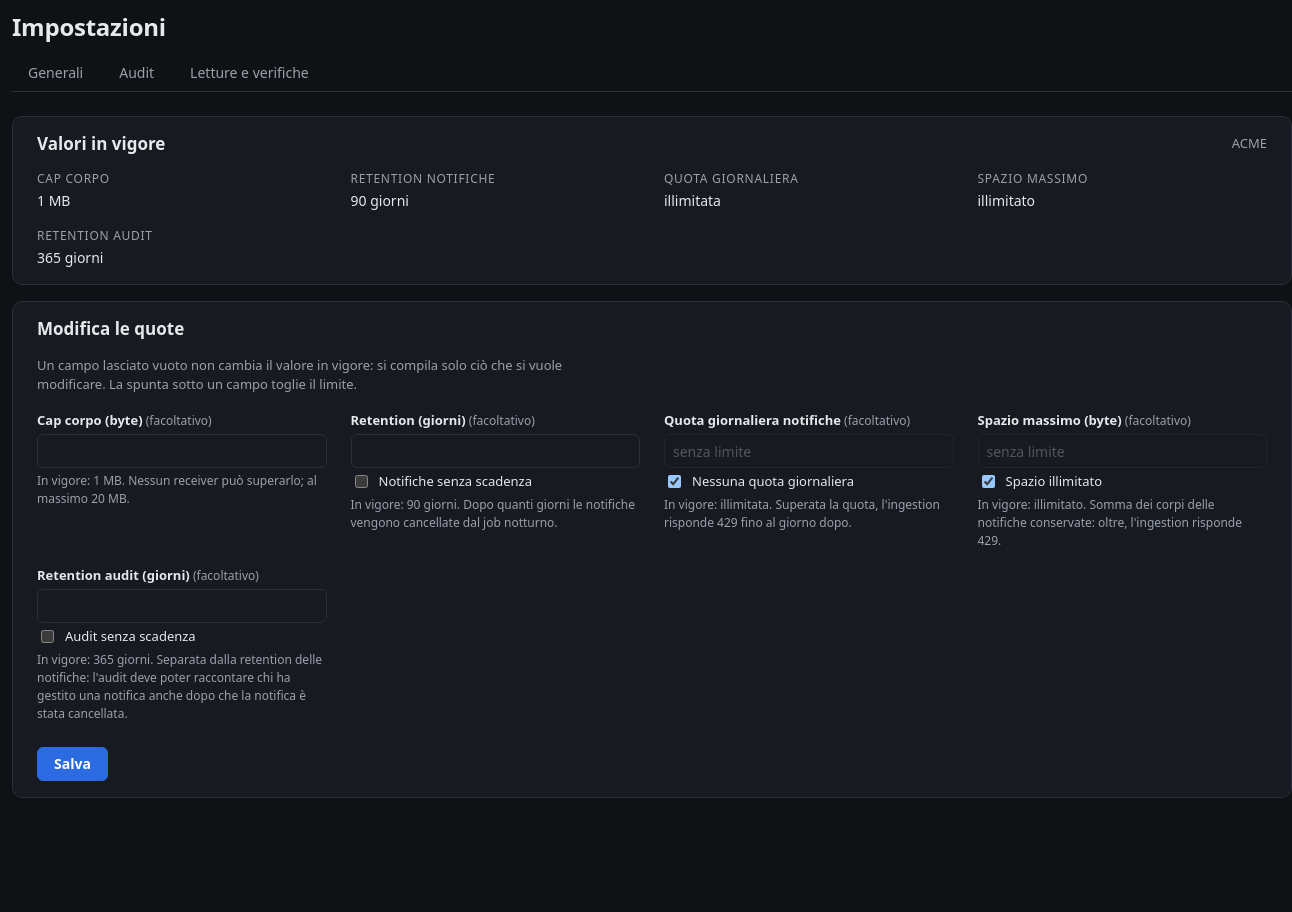
Test: SettingsPage › togliere la spunta senza indicare un limite non manda niente e lo dice sul campo
Click the checkbox labelled "Nessuna quota giornaliera": (674, 482) x1=668 y1=475 x2=681 y2=488
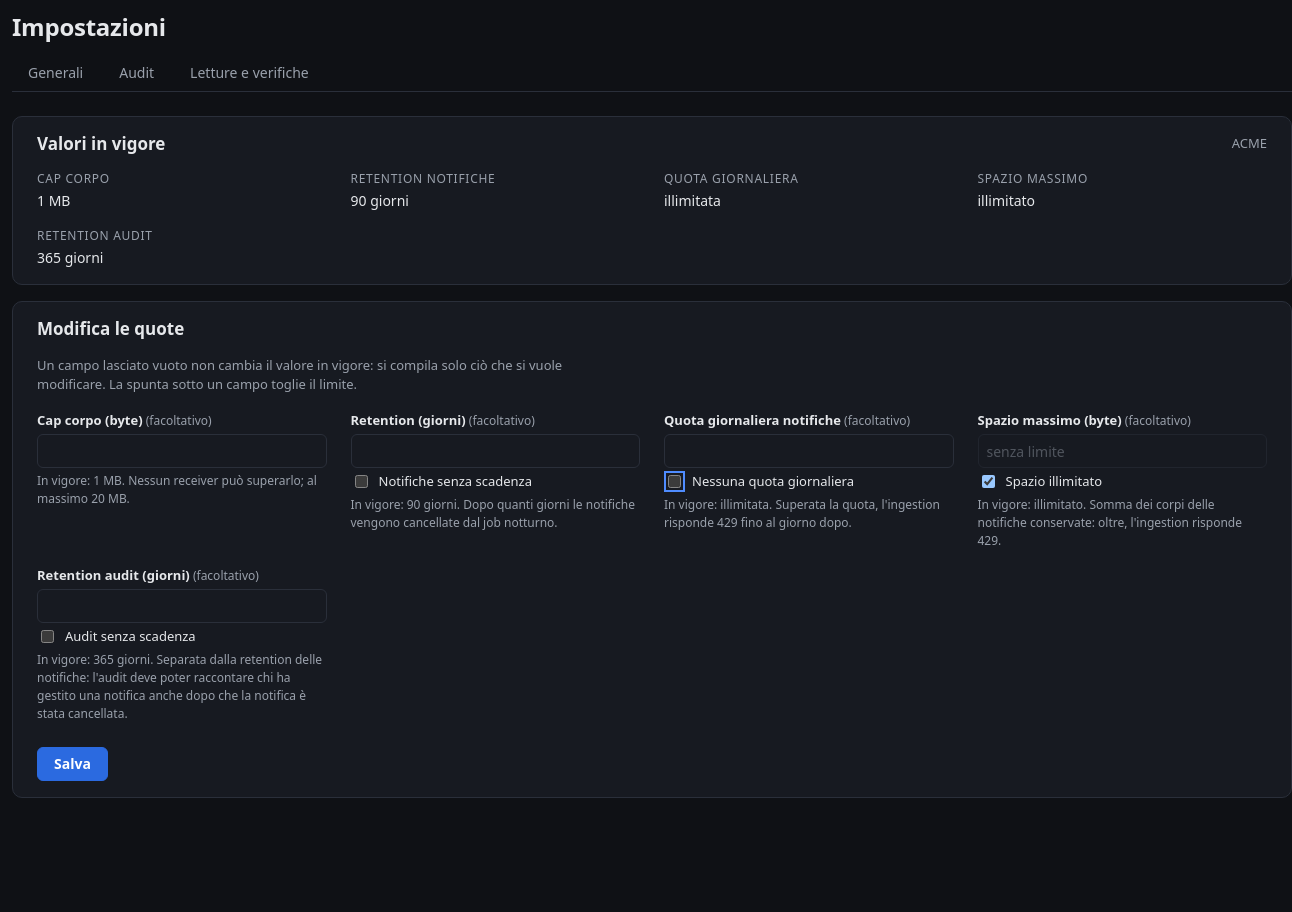
Click the button "Salva": (72, 764) x1=37 y1=746 x2=108 y2=781
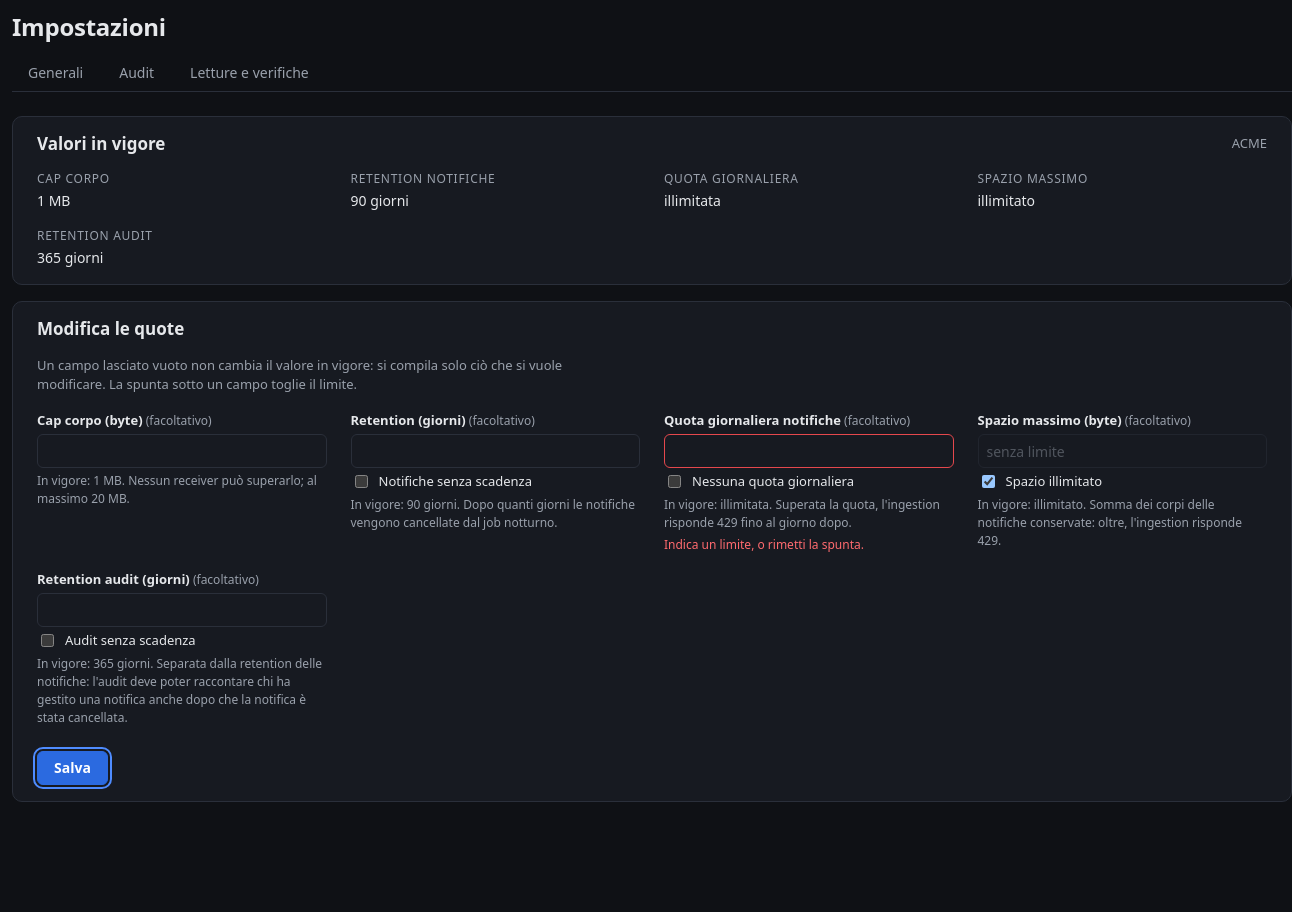
Now the text "Indica un limite, o rimetti la spunta." is shown, box x1=664 y1=536 x2=864 y2=552
